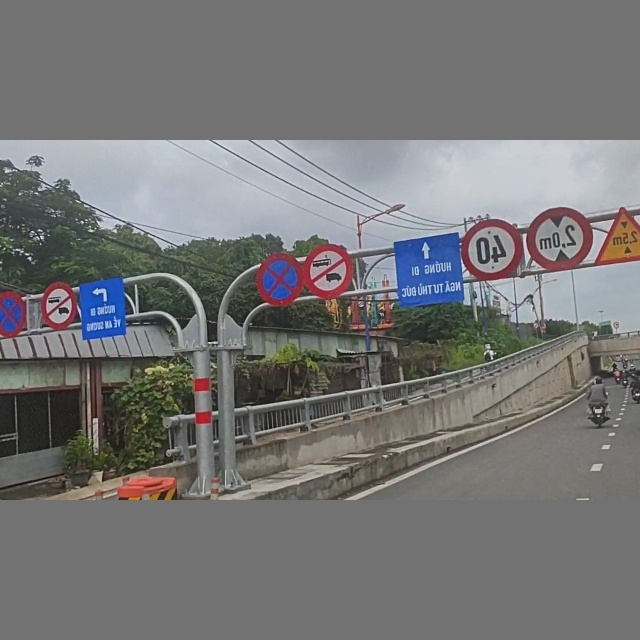P.107: (302, 243, 354, 298), (40, 281, 77, 331)
P.117*: (526, 208, 593, 272)
P.127*40: (462, 218, 521, 281)
P.130: (257, 249, 301, 307), (0, 291, 25, 339)
W.239b*: (595, 206, 639, 267)
